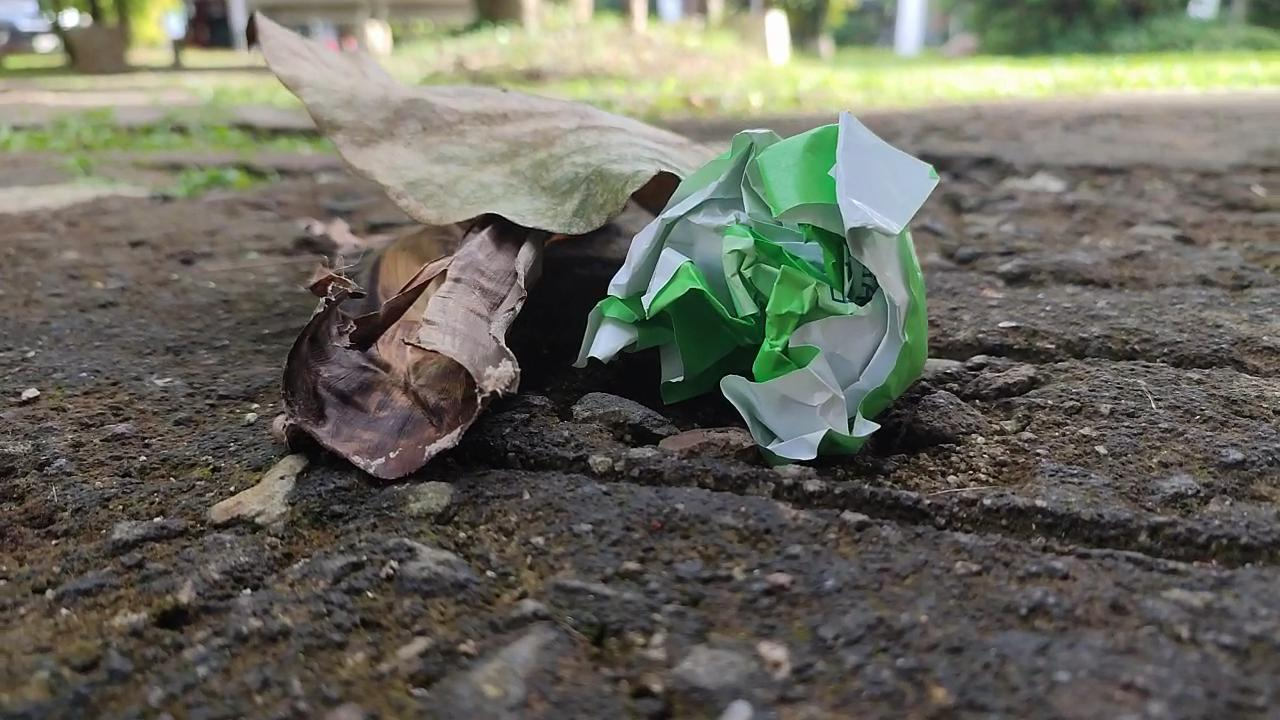Paper: (578, 93, 924, 476)
